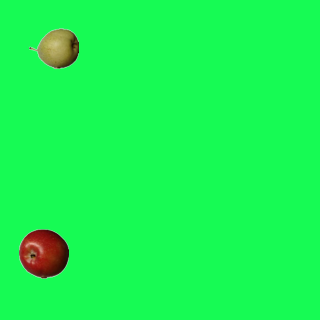Apple Braeburn: (18, 228, 68, 278)
Pear: (28, 23, 78, 73)
